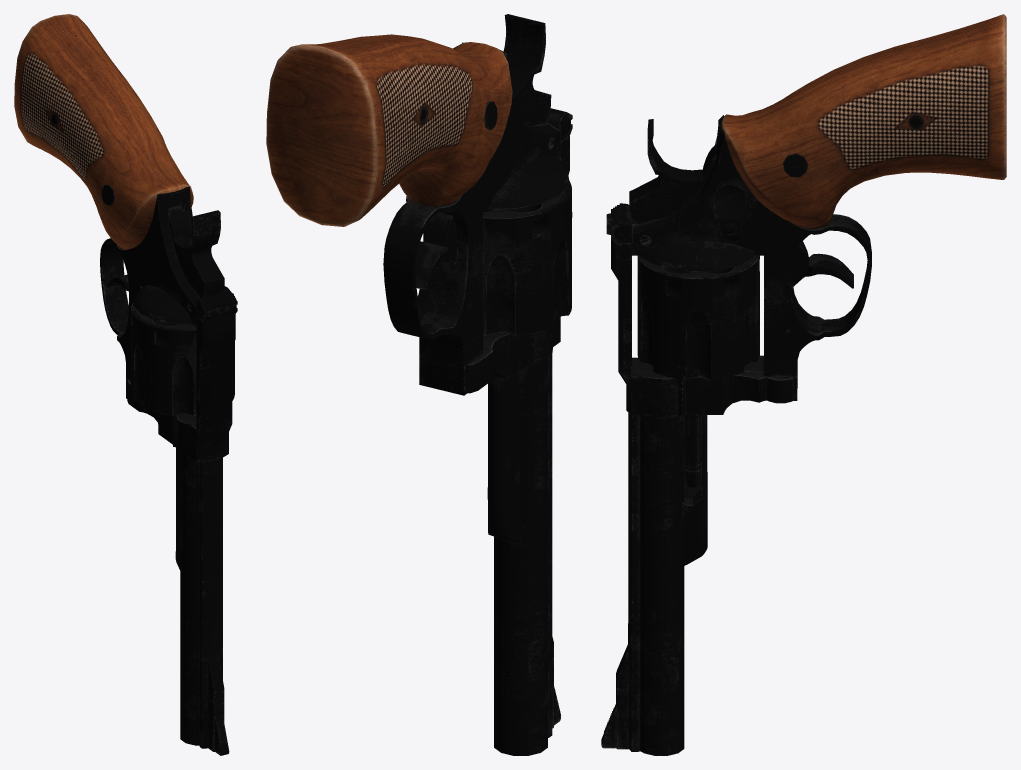
File: Eugene_Gun.obj
The picture shows the model from 3 angles, left to right: view 1: azimuth 30°, elevation 25°; view 2: azimuth 150°, elevation 25°; view 3: azimuth 270°, elevation 25°; orthographic projection. The views are drawn at different scales.
Visible parts, largest first — view 1: Eugene_Gun; view 2: Eugene_Gun; view 3: Eugene_Gun.
Boxes of the visible parts, left/top/right/bottom form: Eugene_Gun: left=14, top=14, right=237, bottom=755; Eugene_Gun: left=266, top=14, right=572, bottom=755; Eugene_Gun: left=601, top=14, right=1006, bottom=755.
Size of the model in its own units: 0.0546 by 0.354 by 0.1792.
Materials: 1 (1 with a texture image).
